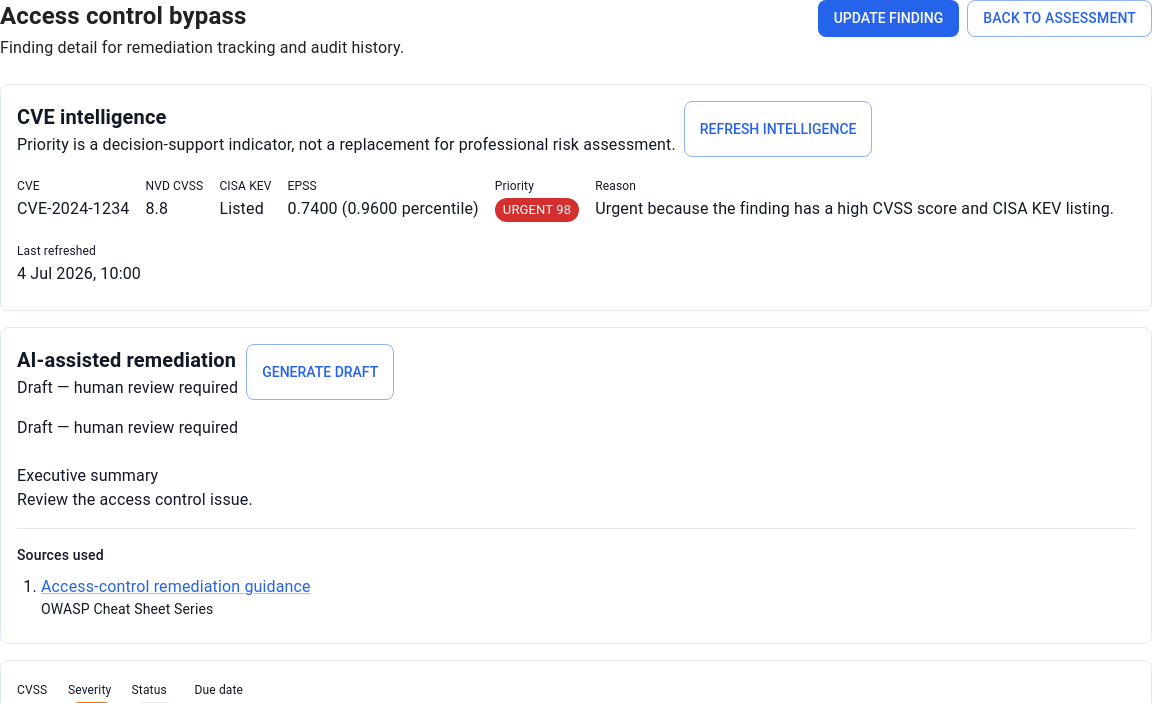
it: finding detail surfaces close validation error from backend
Expected: the heading "CVE intelligence" is shown, [17,105,166,129]
Click the button "Update finding" at (888, 18), box [818,0,959,36]
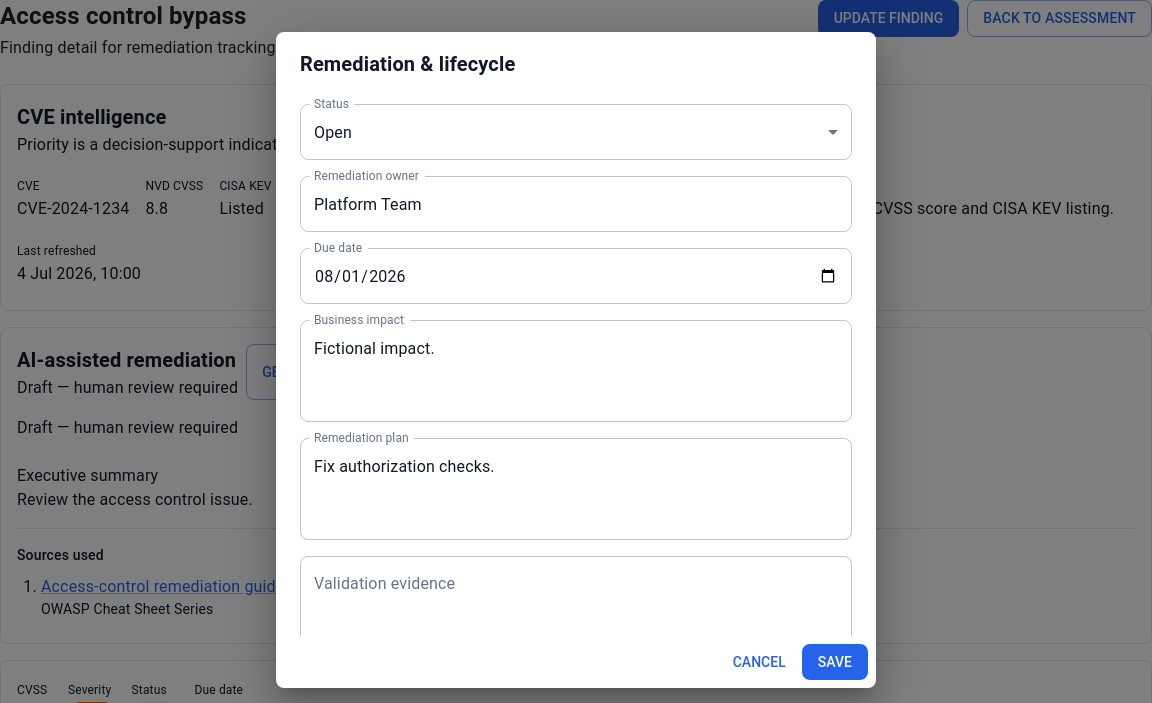
Click the button "Save" at (835, 662), box [802,644,868,680]
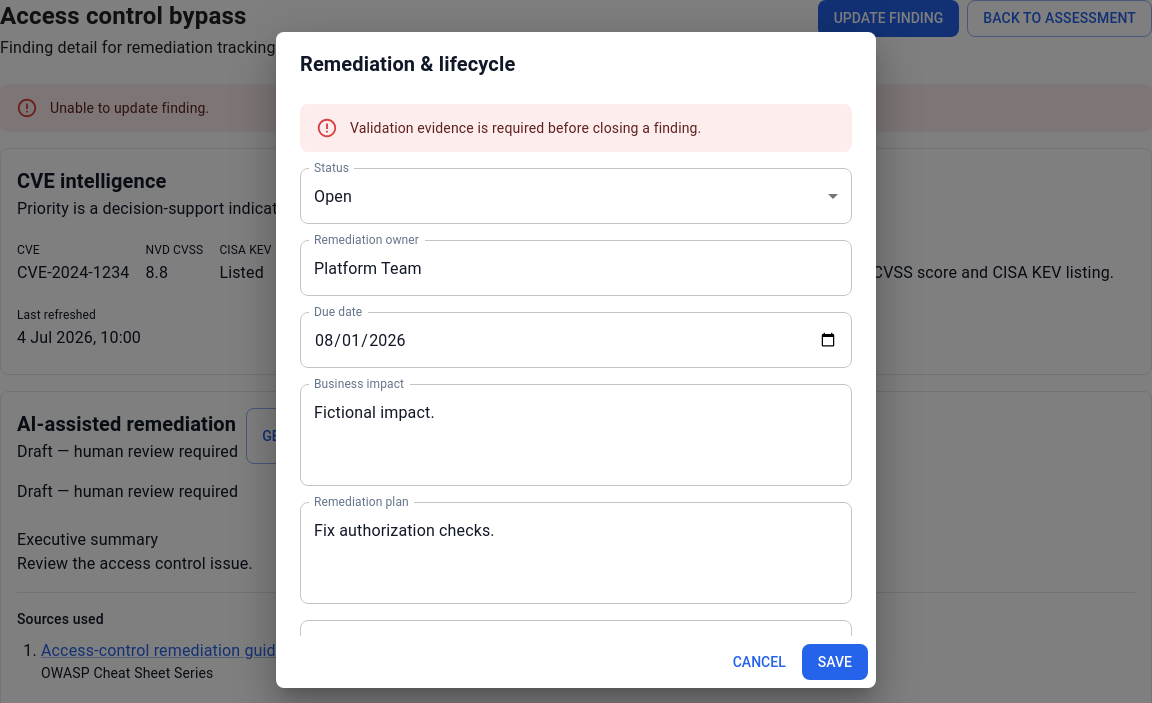
Now the text "Validation evidence is required before closing a finding." is shown, box [350,120,701,136]
